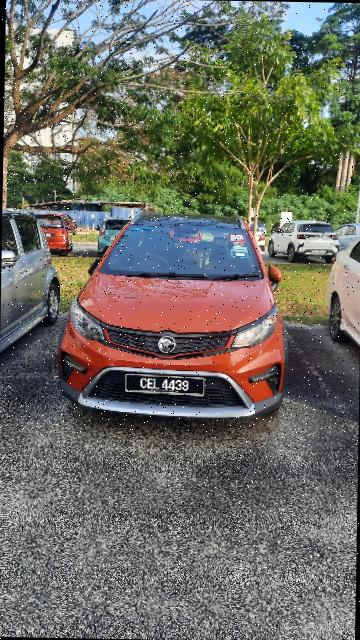License_Plate: (118, 369, 207, 400)
car: (49, 209, 302, 424)
